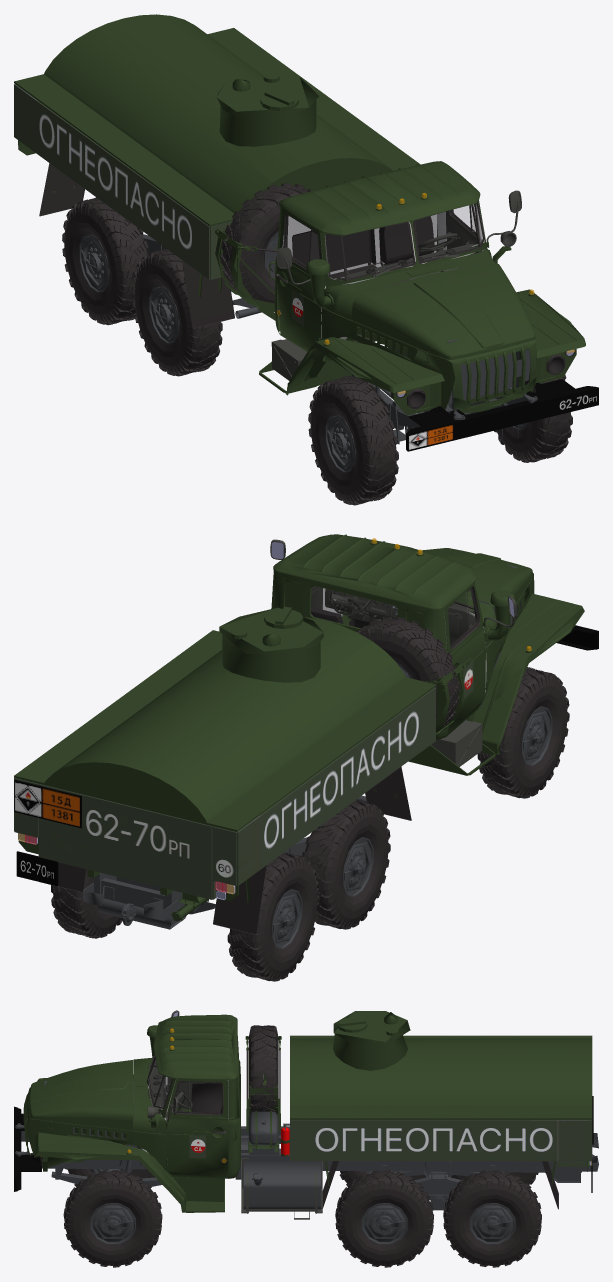
Rendered from ural-atz-fuel.glb.
3 views of the same model, one above another, from view 1: azimuth 30°, elevation 25°; view 2: azimuth 150°, elevation 25°; view 3: azimuth 270°, elevation 25° (orthographic). The views are drawn at different scales.
Parts seen in each view (by area): view 1: pPlane21_blinn3_0, pPlane42_lambert2_0, polySurface5222_Body_blinn10_0, polySurface5239_blinn1_0, pPlane50_Label_blinn11_0, pCylinder271_blinn5_0; view 2: pPlane21_blinn3_0, pPlane42_lambert2_0, polySurface5222_Body_blinn10_0, pCylinder271_blinn5_0, polySurface5239_blinn1_0, pPlane50_Label_blinn11_0; view 3: pPlane21_blinn3_0, pPlane42_lambert2_0, polySurface5222_Body_blinn10_0, pCylinder271_blinn5_0, polySurface5239_blinn1_0, pPlane50_Label_blinn11_0.
Part boxes in pixels (x1,y1,x2,y2): pPlane21_blinn3_0: (14,14,585,415); pPlane42_lambert2_0: (39,163,575,505); polySurface5222_Body_blinn10_0: (14,84,303,326); polySurface5239_blinn1_0: (277,193,575,407); pPlane50_Label_blinn11_0: (406,379,598,451); pCylinder271_blinn5_0: (271,190,521,380); pPlane21_blinn3_0: (14,534,584,921); pPlane42_lambert2_0: (18,542,569,981); polySurface5222_Body_blinn10_0: (14,661,473,899); pCylinder271_blinn5_0: (270,539,516,766); polySurface5239_blinn1_0: (18,538,531,899); pPlane50_Label_blinn11_0: (16,625,598,886); pPlane21_blinn3_0: (23,1011,592,1212); pPlane42_lambert2_0: (15,1012,598,1267); polySurface5222_Body_blinn10_0: (189,1096,593,1166); pCylinder271_blinn5_0: (147,1010,322,1219); polySurface5239_blinn1_0: (39,1028,591,1164); pPlane50_Label_blinn11_0: (14,1106,592,1192).
Bounding box in the file's own units: 3.2 × 3.41 × 8.62.
Materials: 7 (7 with a texture image).
